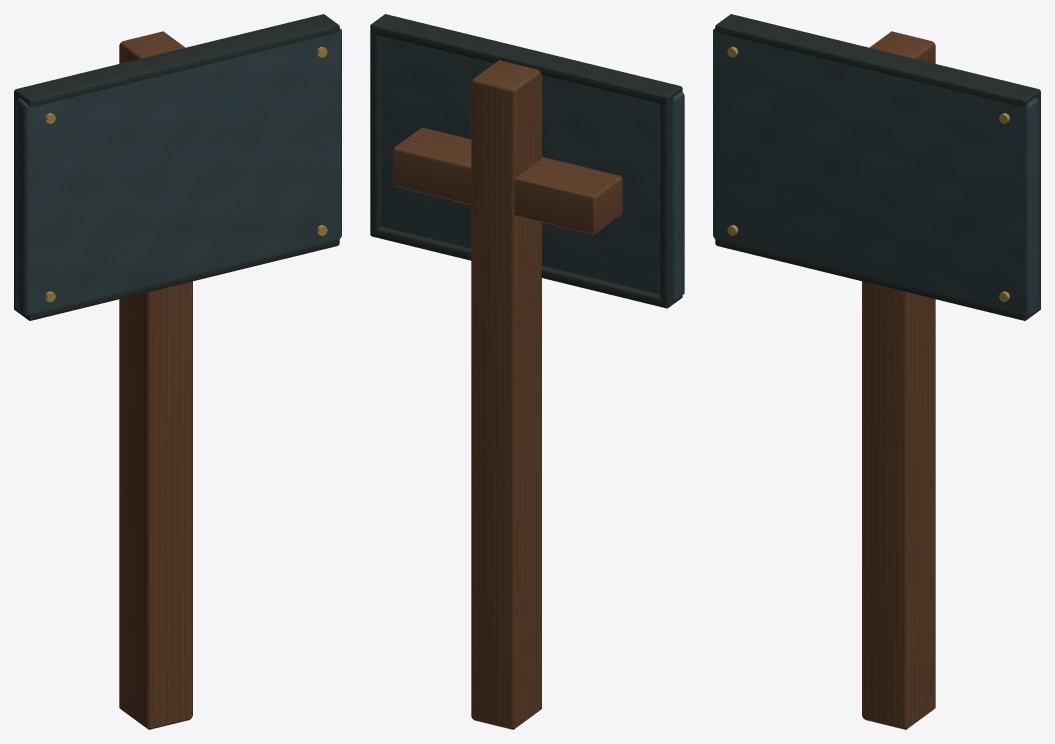
Rendered from info-sign-crafted.glb.
3 renders of one model, left to right at view 1: azimuth 30°, elevation 25°; view 2: azimuth 150°, elevation 25°; view 3: azimuth 330°, elevation 25°, orthographic. The views are drawn at different scales.
Parts seen in each view (by area): view 1: info-sign crafted; view 2: info-sign crafted; view 3: info-sign crafted.
Boxes of the visible parts, left/top/right/bottom form: info-sign crafted: left=14, top=14, right=341, bottom=729; info-sign crafted: left=370, top=14, right=684, bottom=729; info-sign crafted: left=713, top=14, right=1040, bottom=729.
Size of the model in its own units: 0.7674 by 1.55 by 0.1941.
1 material, 1 textured.
